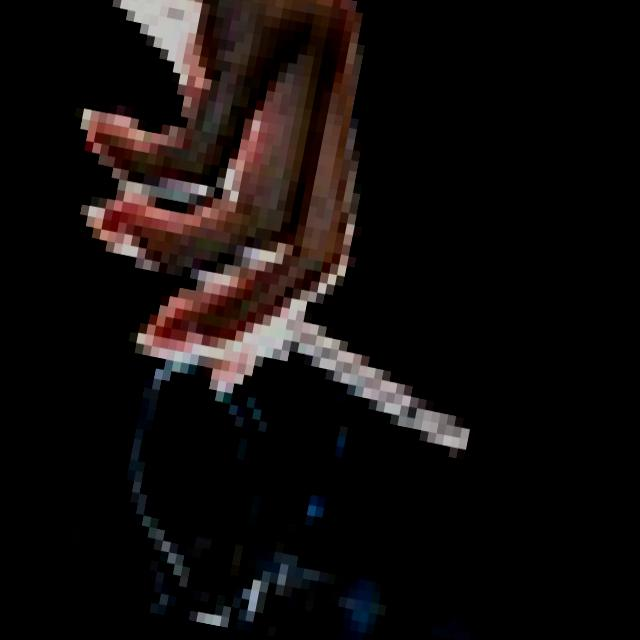cigarette: (280, 322, 508, 485)
